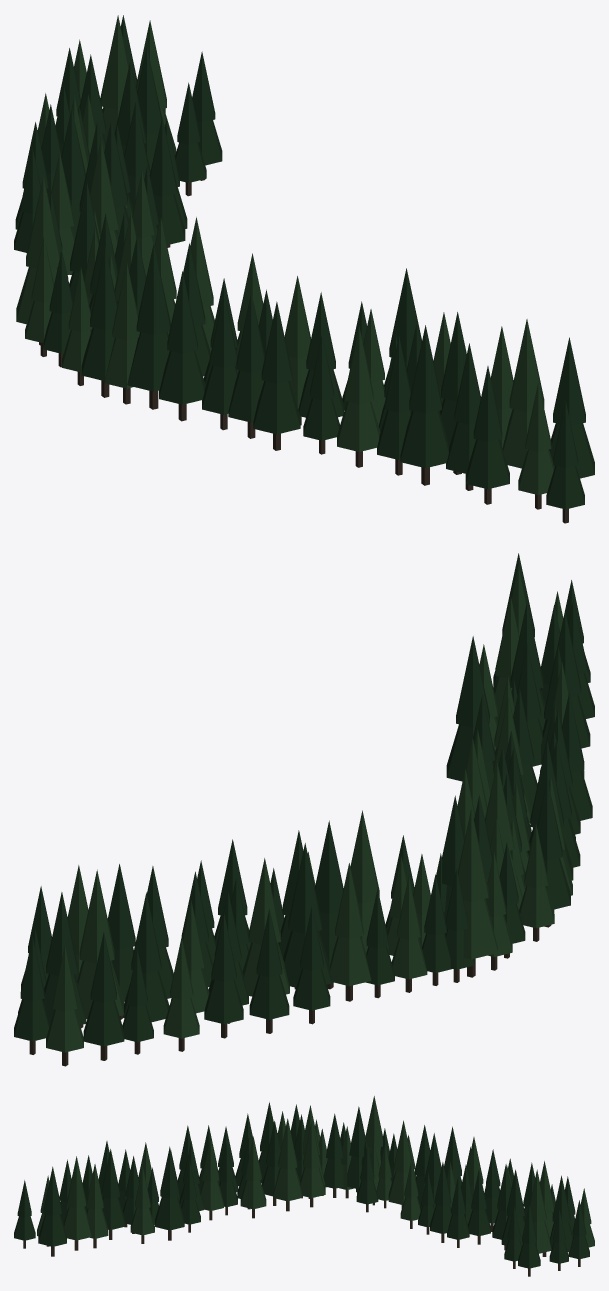
File: forest_edge_18.glb
3 renders of one model, top to bottom at view 1: azimuth 30°, elevation 25°; view 2: azimuth 150°, elevation 25°; view 3: azimuth 270°, elevation 25°, orthographic. The views are drawn at different scales.
Parts seen in each view (by area): view 1: chunk_0_0; view 2: chunk_0_0; view 3: chunk_0_0.
Boxes of the visible parts, box(x1,y1,x2,y2) form: chunk_0_0: box(14, 15, 594, 523); chunk_0_0: box(14, 553, 594, 1066); chunk_0_0: box(14, 1096, 594, 1276).
Size of the model in its own units: 58.74 by 28.58 by 151.
